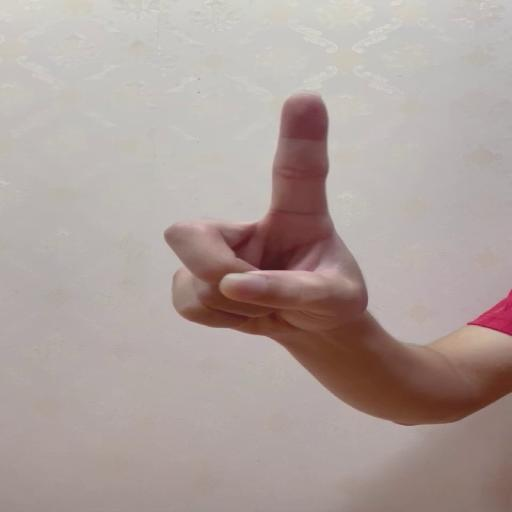point: (161, 91, 345, 336)
